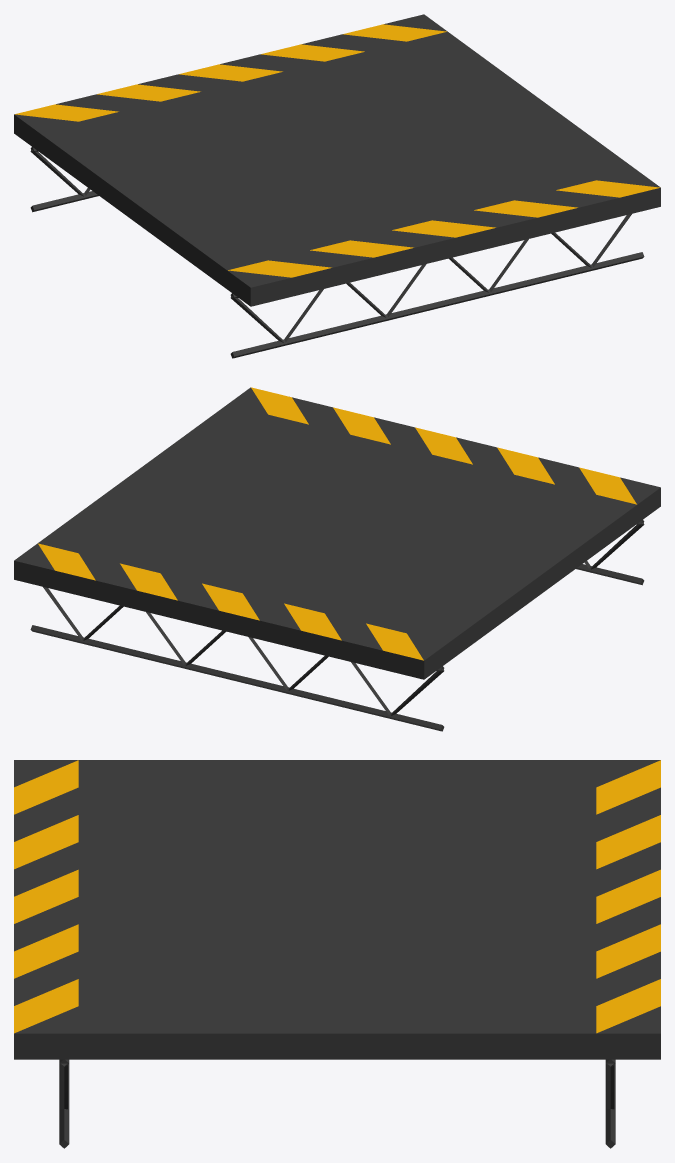
The picture shows the model from 3 angles, top to bottom: view 1: azimuth 30°, elevation 25°; view 2: azimuth 150°, elevation 25°; view 3: azimuth 270°, elevation 25°; orthographic projection. The views are drawn at different scales.
Parts seen in each view (by area): view 1: br1; view 2: br1; view 3: br1.
Part boxes in pixels (<box>): br1: <box>14,14,660,358</box>; br1: <box>14,387,660,731</box>; br1: <box>14,760,660,1148</box>.
Bounding box in the file's own units: 9.07 × 1.77 × 9.
